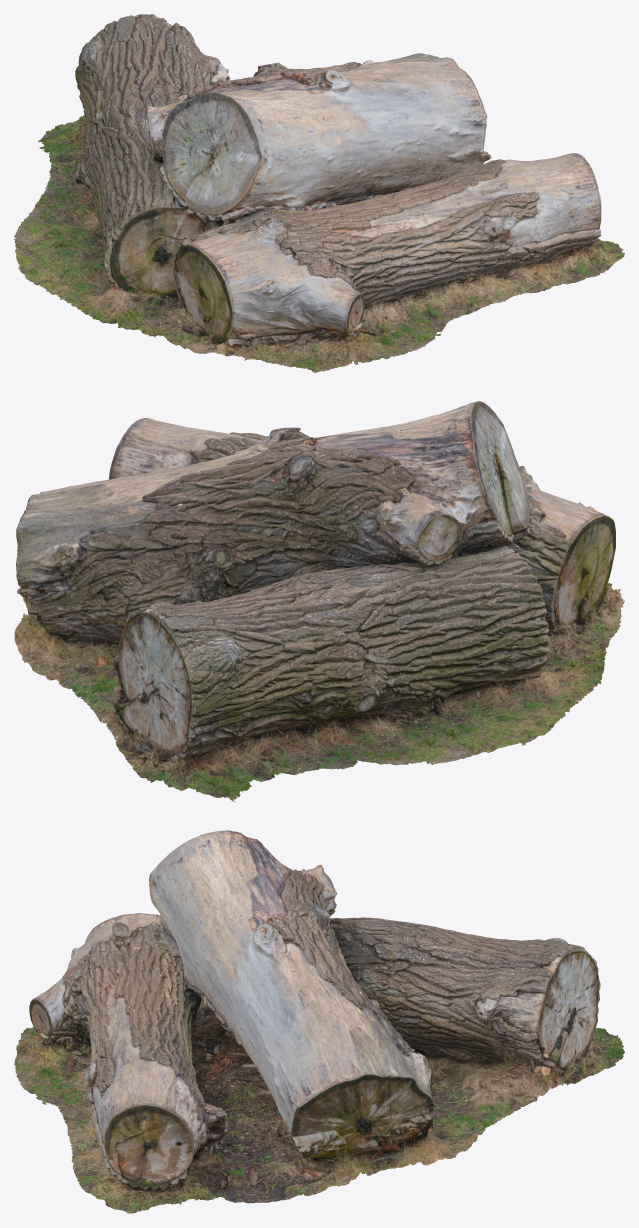
The model's file is sf-thick-ash-tree-trunks-7bdf9f.glb.
3 views of the same model, one above another, from view 1: azimuth 30°, elevation 25°; view 2: azimuth 150°, elevation 25°; view 3: azimuth 270°, elevation 25° (orthographic). The views are drawn at different scales.
Visible parts, largest first — view 1: Model_material0_0, Model_material1_0; view 2: Model_material0_0, Model_material1_0; view 3: Model_material1_0, Model_material0_0.
Part boxes in pixels (<box>): Model_material0_0: <box>14,14,624,364</box>; Model_material1_0: <box>38,14,623,372</box>; Model_material0_0: <box>14,406,624,796</box>; Model_material1_0: <box>16,401,621,801</box>; Model_material1_0: <box>14,830,624,1213</box>; Model_material0_0: <box>14,840,618,1209</box>.
Size of the model in its own units: 3.87 by 1.61 by 4.22.
Materials: 2 (2 with a texture image).
